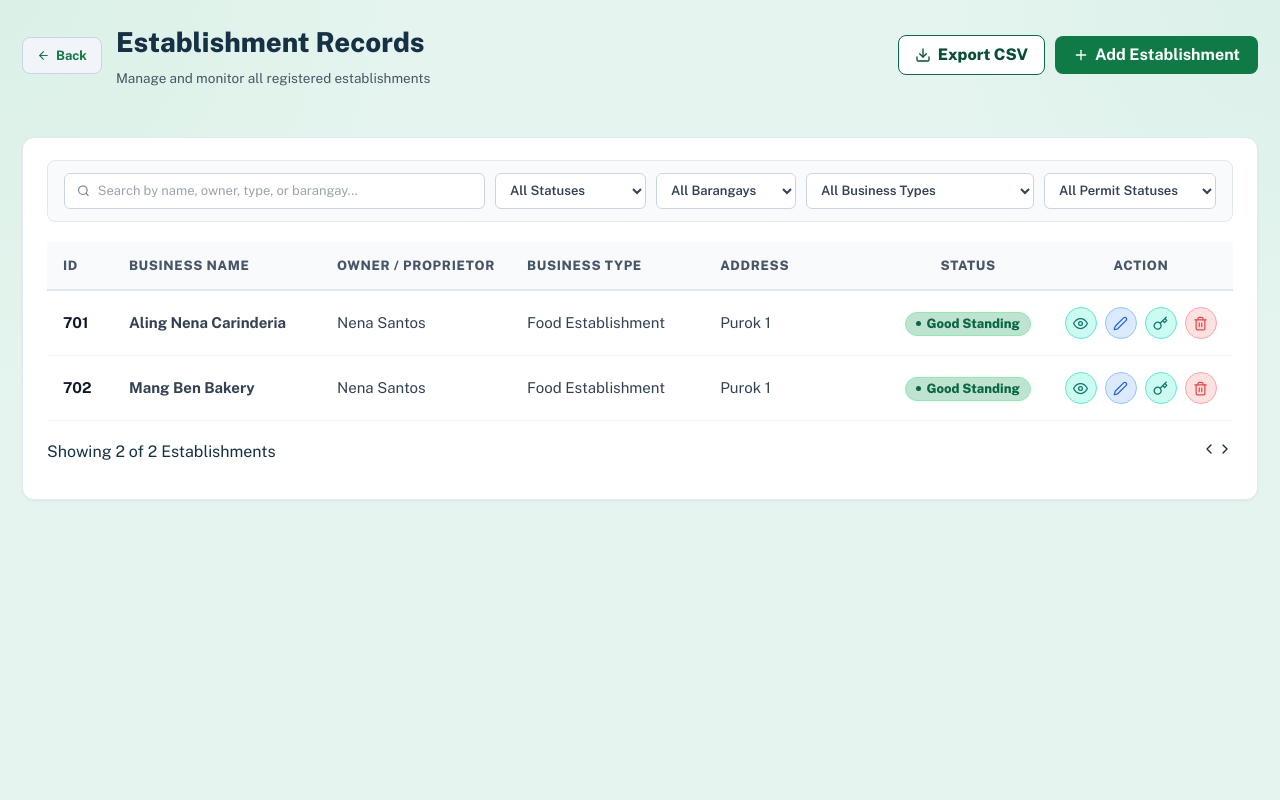
Test: Owner's Slip text › the tile on the record shows the slip status instead of the old account link
Click the button titled "View establishment" in the row of "702" at (1081, 388), box top-left (1065, 372), bottom-right (1097, 404)
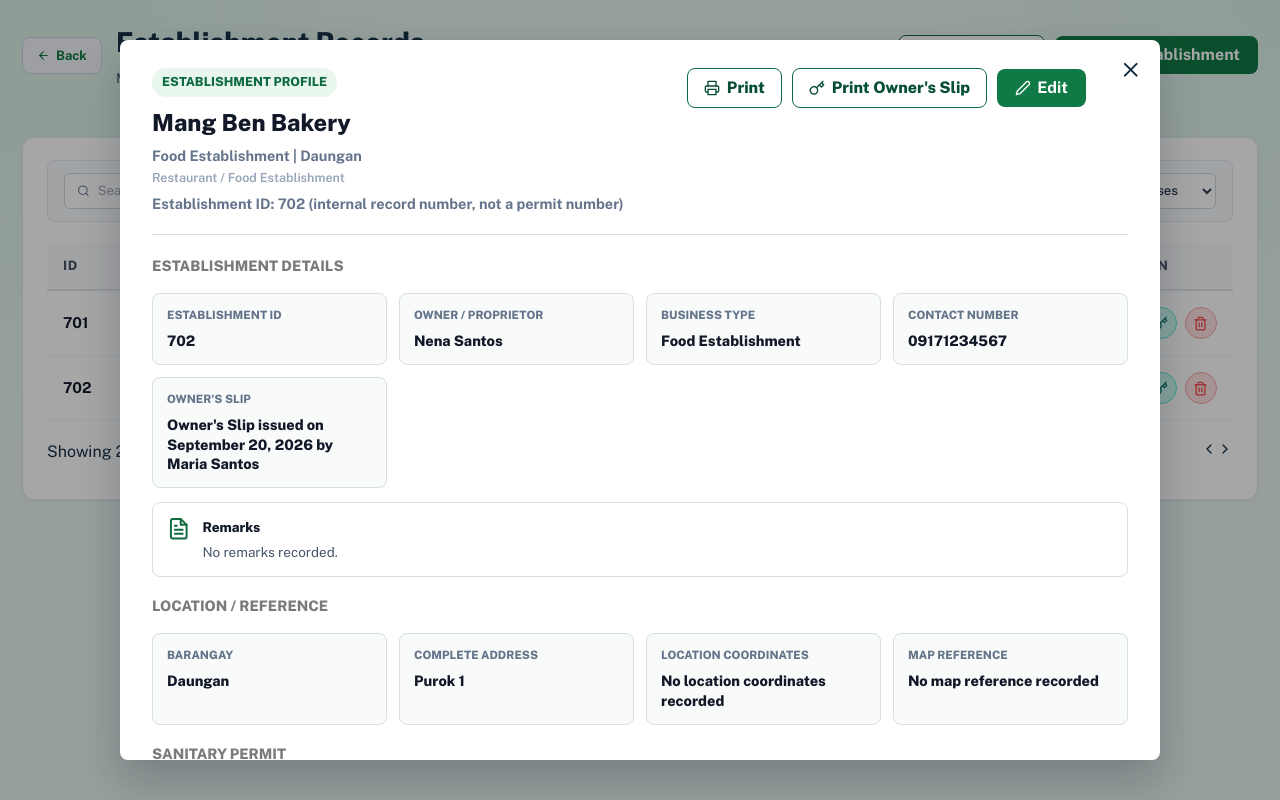
Expected: the text "Owner's Slip issued on September 20, 2026 by Maria Santos" is shown, top-left (167, 416), bottom-right (333, 472)
